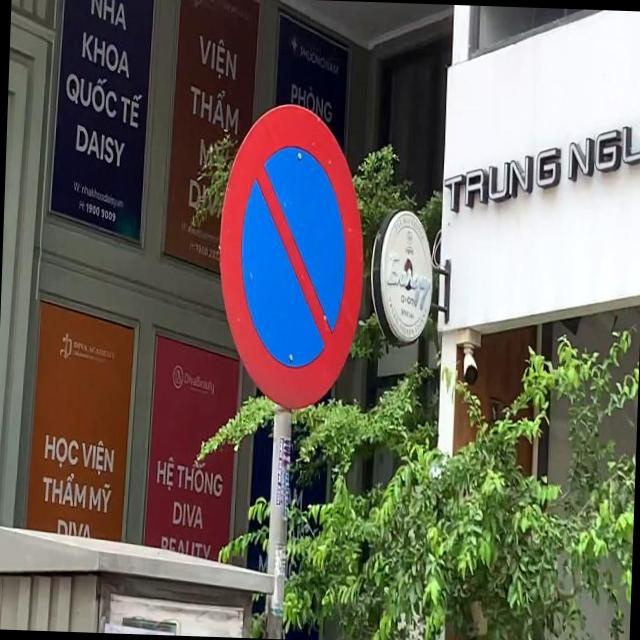P-131a: (216, 100, 370, 408)
